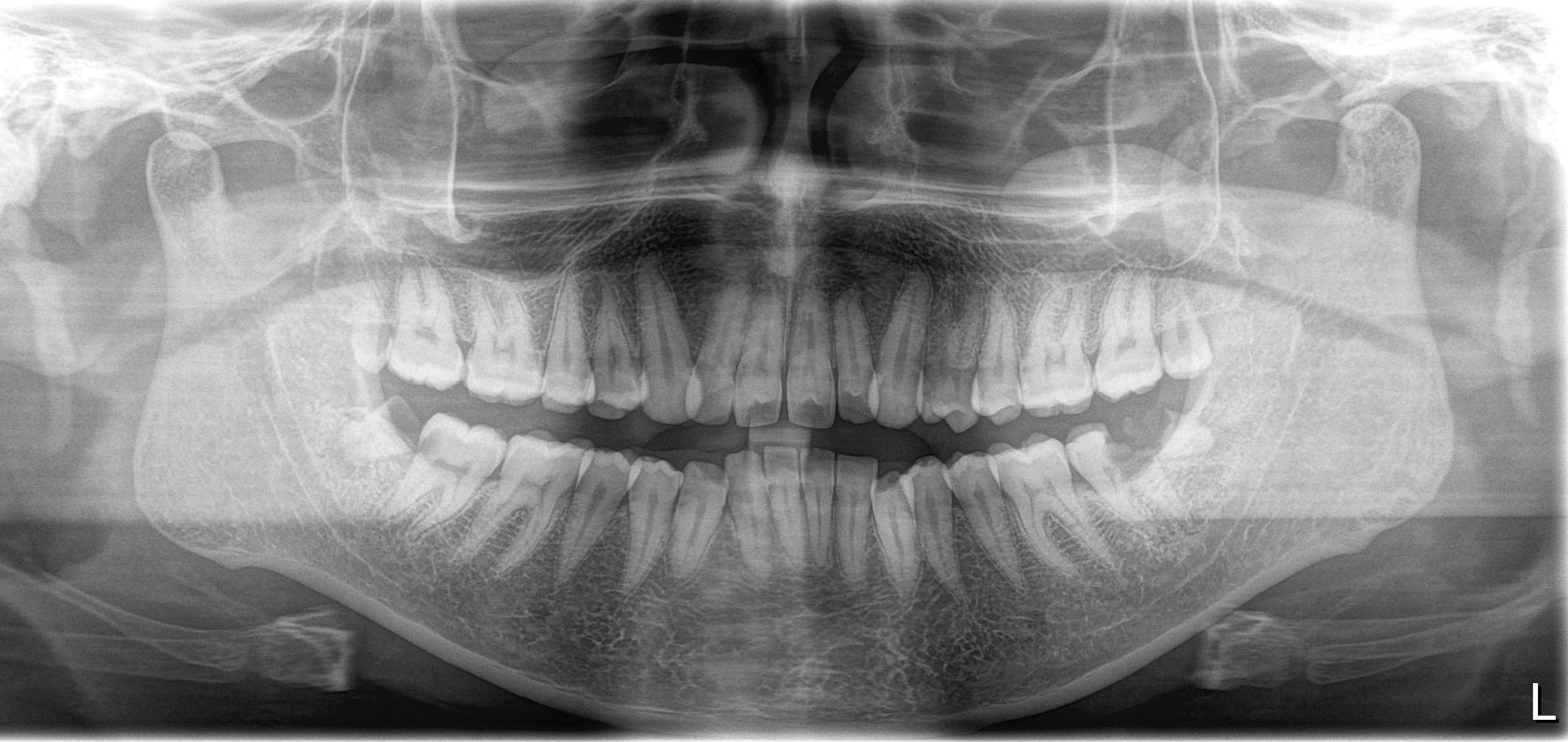Impacted Third Molar: (1133, 415, 1214, 461)
Tooth Fracture: (343, 413, 413, 476), (1076, 432, 1143, 497)
